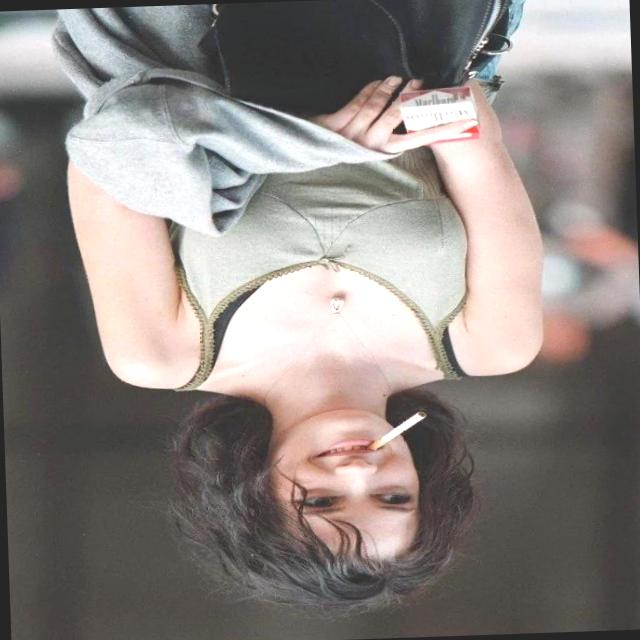smoke: (348, 401, 442, 452)
